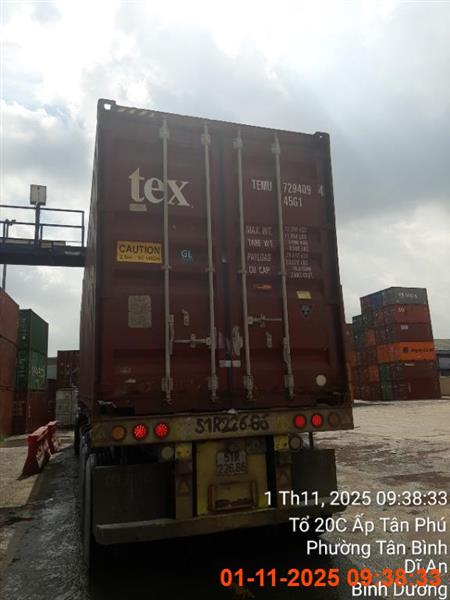hole: (74, 98, 355, 569)
